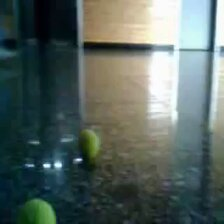tennis: (18, 199, 55, 224), (77, 130, 101, 162)
